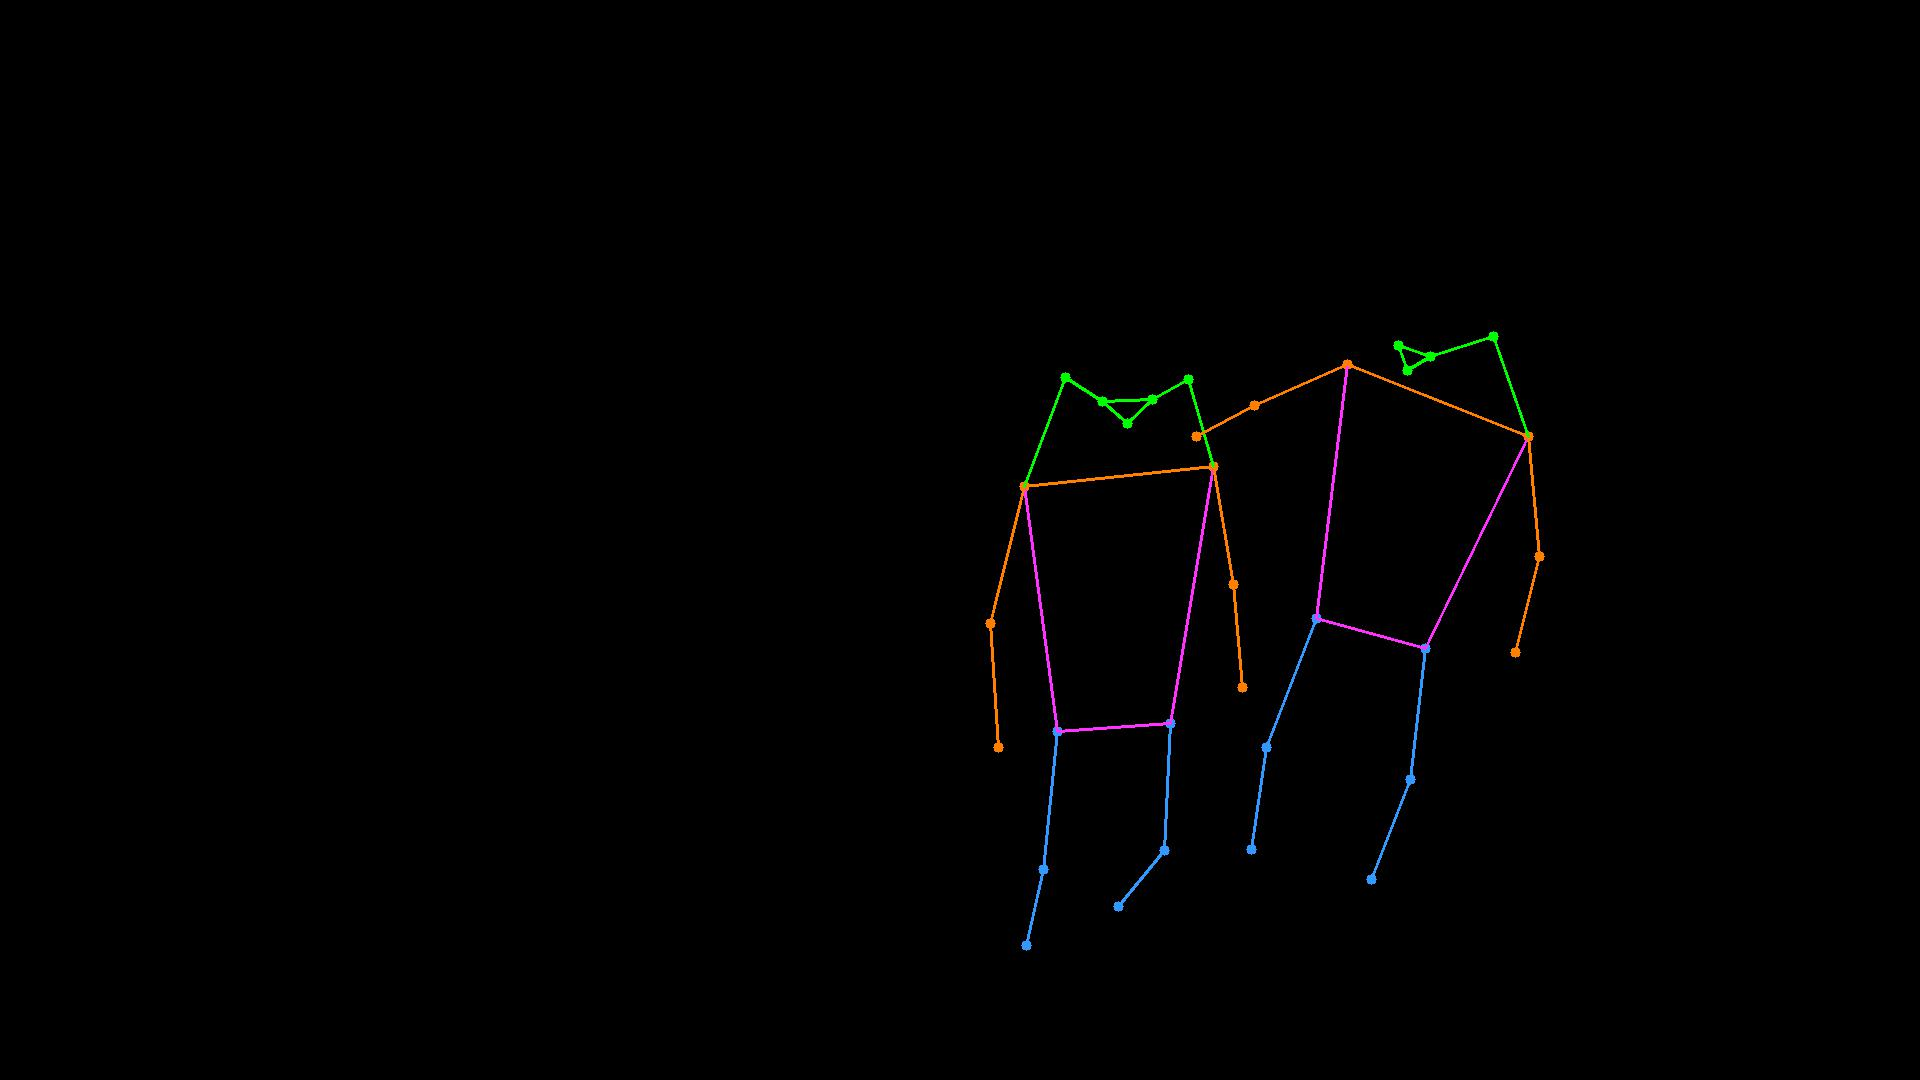normal: (924, 265, 1613, 969)
